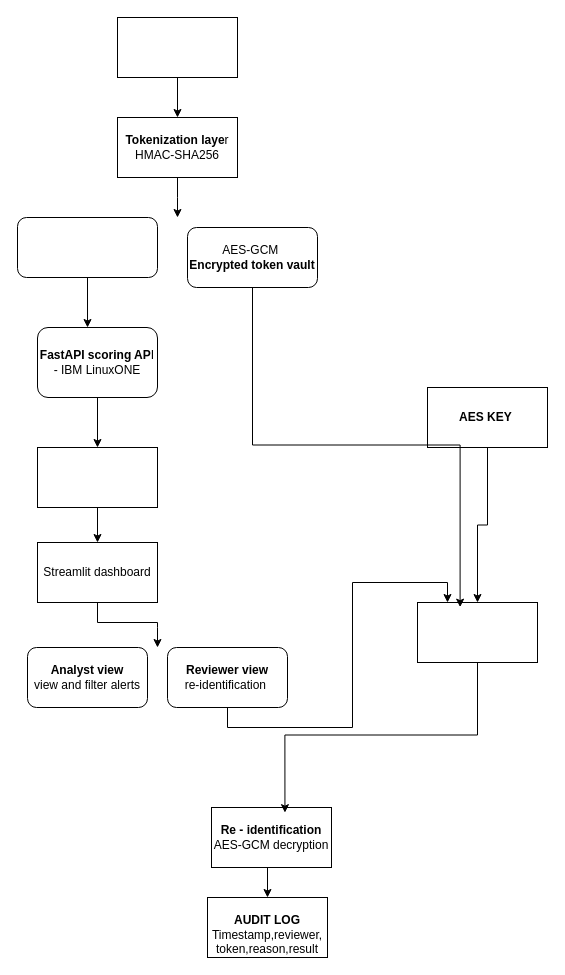
The diagram is 565 pixels wide and 975 high, and some of its shapes have lost their labels. The shapes that lost their labels are listed below. From the top down, each one's centre as x and y in pixels, then its label:
the point at 177,47: PaySim transaction data input transaction records
the point at 87,247: Fraud detection models
the point at 97,477: alerts.csv
the point at 477,632: Reviewer Authorisation
